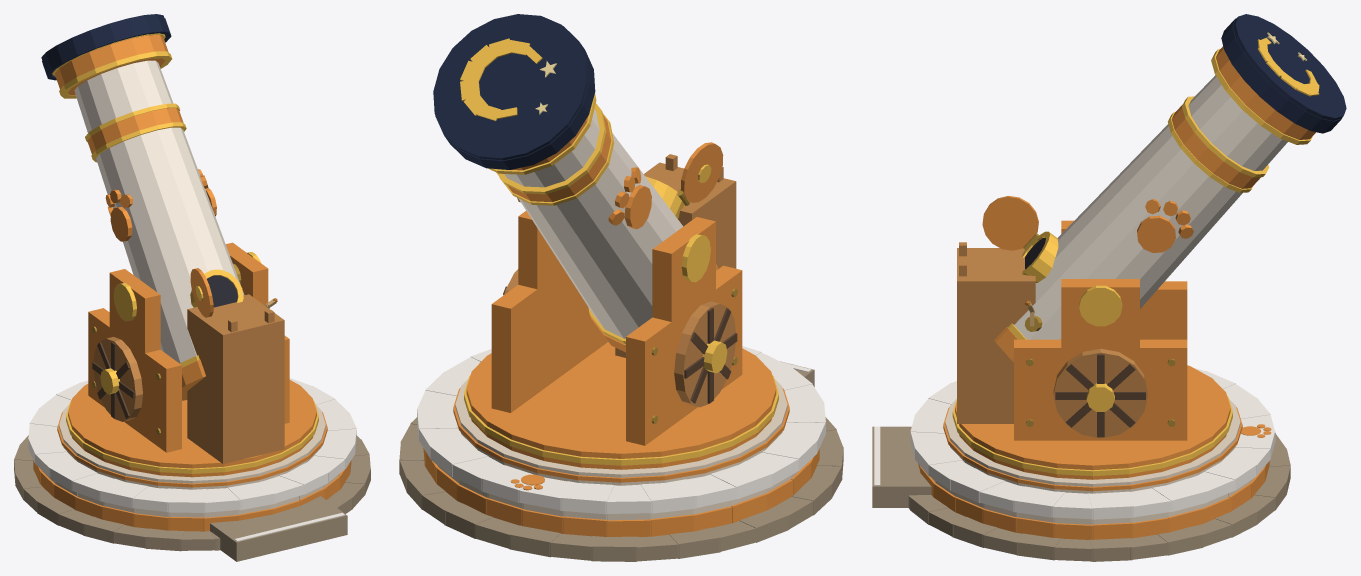
The model's file is CatCafe_Camp_Cannon_Neighbourhood.glb.
The picture shows the model from 3 angles, left to right: view 1: azimuth 30°, elevation 25°; view 2: azimuth 150°, elevation 25°; view 3: azimuth 270°, elevation 25°; orthographic projection. The views are drawn at different scales.
Visible parts, largest first — view 1: CatCafe_Camp_Cannon_Neighbourhood_Turret, CatCafe_Camp_Cannon_Neighbourhood, CatCafe_Camp_Cannon_Neighbourhood_Climb, CatCafe_Camp_Cannon_Neighbourhood_MoonCover; view 2: CatCafe_Camp_Cannon_Neighbourhood_Turret, CatCafe_Camp_Cannon_Neighbourhood, CatCafe_Camp_Cannon_Neighbourhood_MoonCover, CatCafe_Camp_Cannon_Neighbourhood_Climb; view 3: CatCafe_Camp_Cannon_Neighbourhood_Turret, CatCafe_Camp_Cannon_Neighbourhood, CatCafe_Camp_Cannon_Neighbourhood_Climb, CatCafe_Camp_Cannon_Neighbourhood_MoonCover.
Part boxes in pixels (x1,y1,x2,y2): CatCafe_Camp_Cannon_Neighbourhood_Turret: (52, 33, 318, 477); CatCafe_Camp_Cannon_Neighbourhood: (14, 378, 370, 561); CatCafe_Camp_Cannon_Neighbourhood_Climb: (187, 294, 284, 463); CatCafe_Camp_Cannon_Neighbourhood_MoonCover: (41, 14, 171, 80); CatCafe_Camp_Cannon_Neighbourhood_Turret: (464, 94, 778, 469); CatCafe_Camp_Cannon_Neighbourhood: (399, 346, 843, 561); CatCafe_Camp_Cannon_Neighbourhood_MoonCover: (433, 14, 595, 169); CatCafe_Camp_Cannon_Neighbourhood_Climb: (615, 162, 736, 357); CatCafe_Camp_Cannon_Neighbourhood_Turret: (952, 46, 1315, 479); CatCafe_Camp_Cannon_Neighbourhood: (872, 368, 1290, 561); CatCafe_Camp_Cannon_Neighbourhood_Climb: (957, 248, 1035, 423); CatCafe_Camp_Cannon_Neighbourhood_MoonCover: (1221, 14, 1346, 133).
Size of the model in its own units: 7.54 by 9.55 by 9.03.
Materials: 1 (1 with a texture image).
